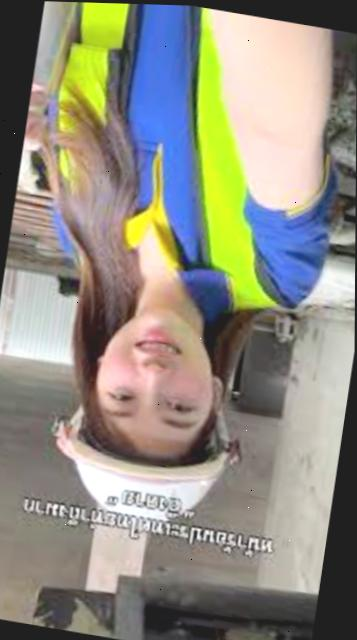helmet: (35, 407, 250, 543)
vest: (19, 0, 324, 328)
